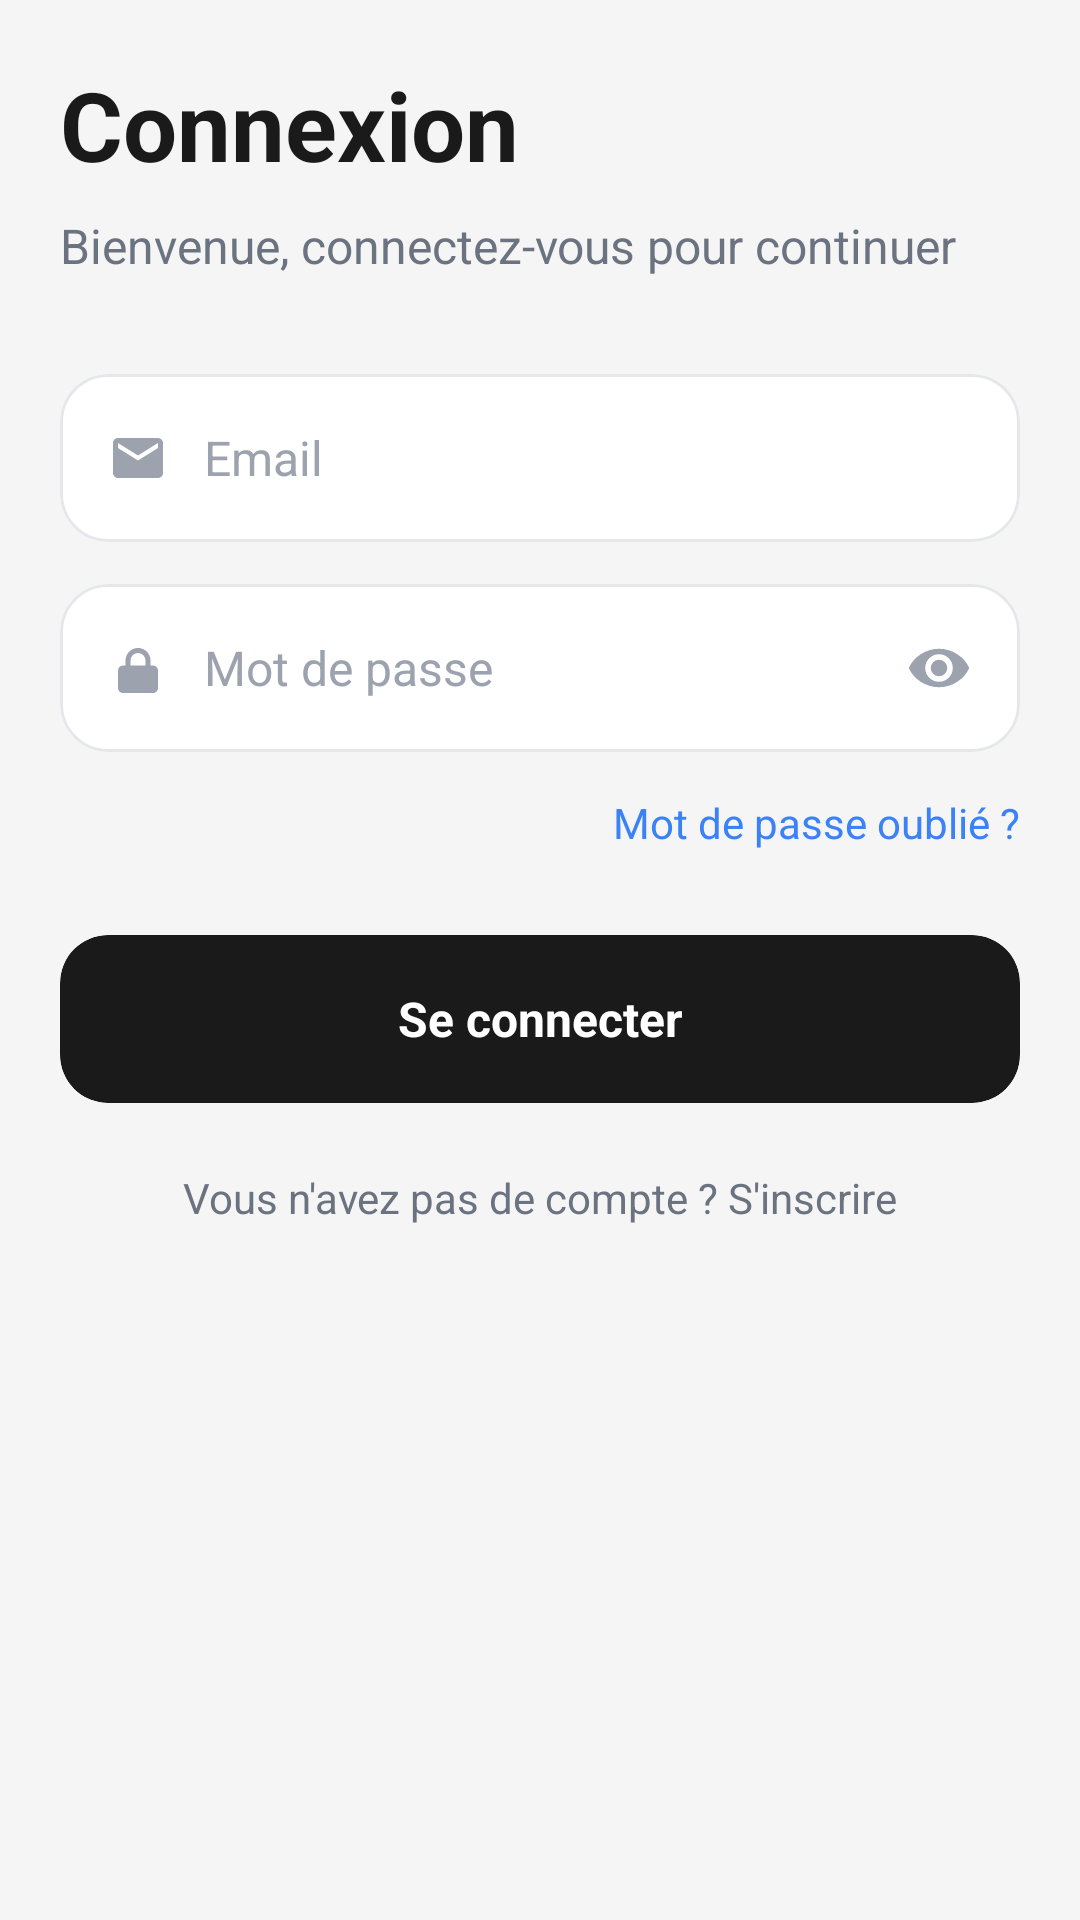

Locate icon controls on the screen. Image size 1080×1920, boxes as (x1, y1, x2, y2).
lock: (118, 648, 158, 693)
